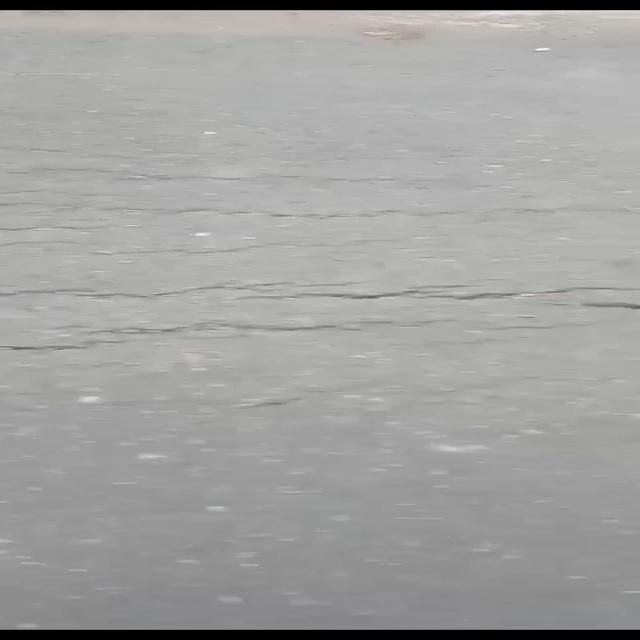Melintang: (0, 272, 640, 325)
